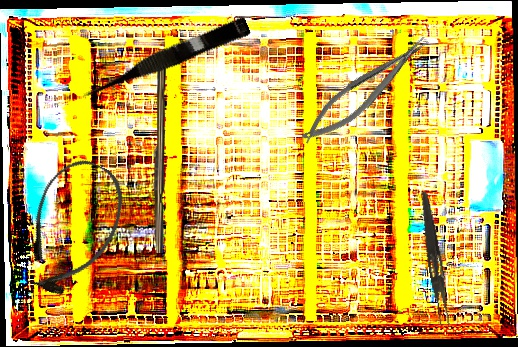Cannula: (4, 148, 139, 307)
Dressing Forceps: (414, 190, 455, 328)
Micro Scissor: (77, 12, 252, 105)
Needle Holder: (292, 29, 440, 152)
Scalpel Handle: (152, 68, 166, 253)
